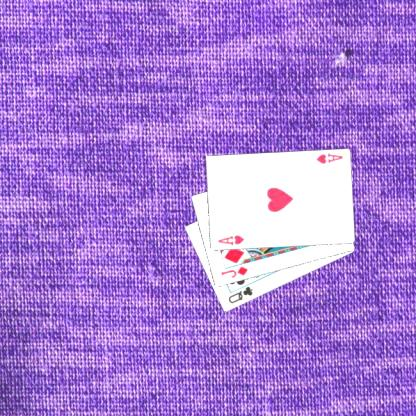AH: (215, 232, 245, 247), (314, 151, 344, 165)
JD: (218, 264, 250, 279)
QC: (225, 284, 254, 306)
